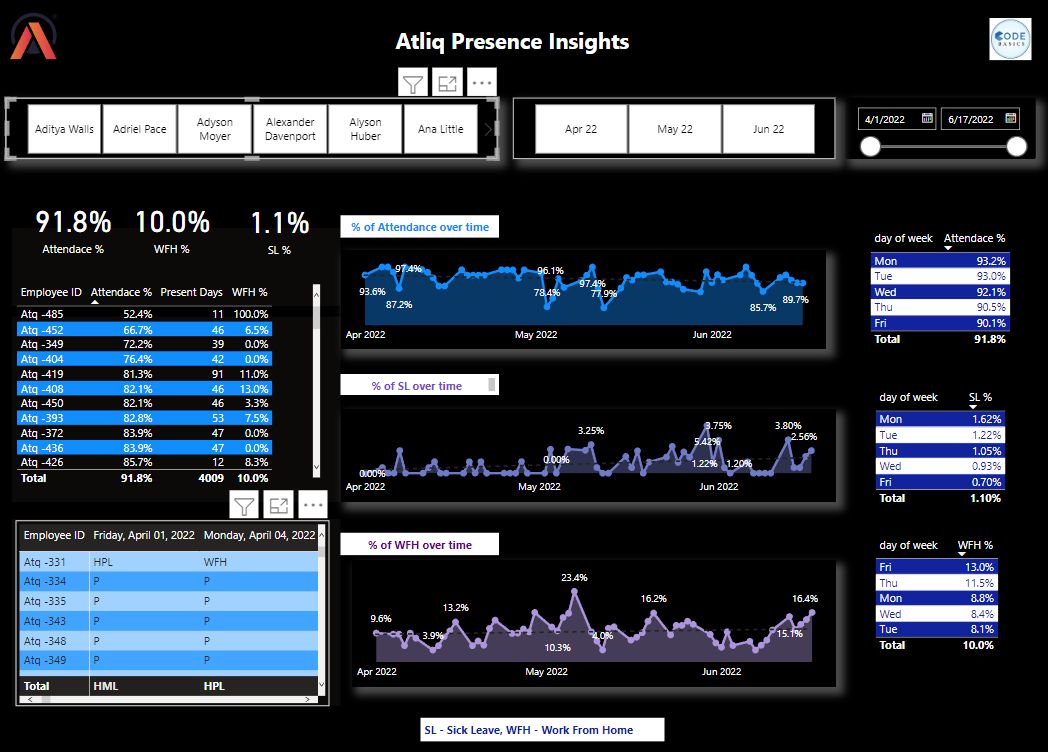

What the dashboard file says about the page in this screenshot:
{"tool":"powerbi","page":{"name":"Presence Insights","canvas":[1280,920],"ordinal":0},"visuals":[{"type":"textbox","box":[17.4,385.6,399.9,225.5],"z":0},{"type":"textbox","box":[17.4,633.3,399.8,227.6],"z":1000},{"type":"textbox","box":[17.4,278.1,399.9,95.4],"z":3000},{"type":"tableEx","fields":{"Values":["Final Data.Employee ID","Measures (2).Attendace %","Measures (2).Present Days","Measures (2).WFH %"]},"box":[16.7,342.1,380.2,254],"z":4000},{"type":"slicer","fields":{"Values":["Final Data.Date"]},"box":[1031,120.1,231.1,74.5],"z":5000},{"type":"slicer","fields":{"Values":["Final Data.MMM YY"]},"box":[626.5,120.1,392.3,74.5],"z":6000},{"type":"areaChart","fields":{"Category":["Final Data.MMM YY","Final Data.Date"],"Y":["Measures (2).WFH %"]},"box":[430.3,682.3,589,153.5],"z":7000},{"type":"areaChart","fields":{"Category":["Final Data.WeekNo","Final Data.Date"],"Y":["Measures (2).Attendace %"]},"box":[416.7,305.7,591.5,120.1],"z":8000},{"type":"card","fields":{"Values":["Measures (2).Attendace %"]},"box":[29.2,228.4,124.7,95.8],"z":9000},{"type":"card","fields":{"Values":["Measures (2).WFH %"]},"box":[141.4,228.1,139.9,95.8],"z":10000},{"type":"areaChart","fields":{"Category":["Final Data.MMM YY","Final Data.Date"],"Y":["Measures (2).SL %"]},"box":[416.7,498.8,602.2,112.5],"z":11000},{"type":"image","box":[9.1,9.1,70,71.5],"z":12000},{"type":"card","fields":{"Values":["Measures (2).SL %"]},"box":[281.3,229.6,121.7,97.3],"z":13000},{"type":"textbox","box":[95.8,9.1,1059.9,71.5],"z":14000},{"type":"textbox","box":[416.7,263.1,193.1,27.4],"z":15000},{"type":"textbox","box":[416.7,456.2,193.1,25.9],"z":16000},{"type":"textbox","box":[416.7,649.3,193.1,27.4],"z":17000},{"type":"pivotTable","fields":{"Rows":["Final Data.Employee ID"],"Columns":["Final Data.Date"],"Values":["Final Data.Value"]},"box":[21.5,633.5,382,227.3],"z":18000},{"type":"textbox","box":[514,874.4,296.5,28.9],"z":19000},{"type":"tableEx","fields":{"Values":["Final Data.day of week","Measures (2).Attendace %"]},"box":[1055.3,276.8,193.1,159.7],"z":20000},{"type":"tableEx","fields":{"Values":["Final Data.day of week","Measures (2).SL %"]},"box":[1061.4,469.9,181,162.7],"z":21000},{"type":"tableEx","fields":{"Values":["Final Data.day of week","Measures (2).WFH %"]},"box":[1061.4,649.3,181,153.6],"z":22000},{"type":"image","box":[1201.3,16.7,60.8,63.9],"z":23000},{"type":"slicer","fields":{"Values":["Final Data.Name"]},"box":[9.1,120.1,599.1,74.5],"z":24000}]}

Visuals, with their boxes in screenshot pixels (x1, y1, x2, y2), scaled from the page's 1280x920 canvas onto the 1048x752 screenshot:
textbox: left=14, top=315, right=342, bottom=500
textbox: left=14, top=518, right=342, bottom=704
textbox: left=14, top=227, right=342, bottom=305
tableEx - Final Data.Employee ID x Measures (2).Attendace %: left=14, top=280, right=325, bottom=487
slicer - Final Data.Date: left=844, top=98, right=1033, bottom=159
slicer - Final Data.MMM YY: left=513, top=98, right=834, bottom=159
areaChart - Final Data.MMM YY x Final Data.Date: left=352, top=558, right=835, bottom=683
areaChart - Final Data.WeekNo x Final Data.Date: left=341, top=250, right=825, bottom=348
card - Measures (2).Attendace %: left=24, top=187, right=126, bottom=265
card - Measures (2).WFH %: left=116, top=186, right=230, bottom=265
areaChart - Final Data.MMM YY x Final Data.Date: left=341, top=408, right=834, bottom=500
image: left=7, top=7, right=65, bottom=66
card - Measures (2).SL %: left=230, top=188, right=330, bottom=267
textbox: left=78, top=7, right=946, bottom=66
textbox: left=341, top=215, right=499, bottom=237
textbox: left=341, top=373, right=499, bottom=394
textbox: left=341, top=531, right=499, bottom=553
pivotTable - Final Data.Employee ID x Final Data.Date: left=18, top=518, right=330, bottom=704
textbox: left=421, top=715, right=664, bottom=738
tableEx - Final Data.day of week x Measures (2).Attendace %: left=864, top=226, right=1022, bottom=357
tableEx - Final Data.day of week x Measures (2).SL %: left=869, top=384, right=1017, bottom=517
tableEx - Final Data.day of week x Measures (2).WFH %: left=869, top=531, right=1017, bottom=656
image: left=984, top=14, right=1033, bottom=66
slicer - Final Data.Name: left=7, top=98, right=498, bottom=159
